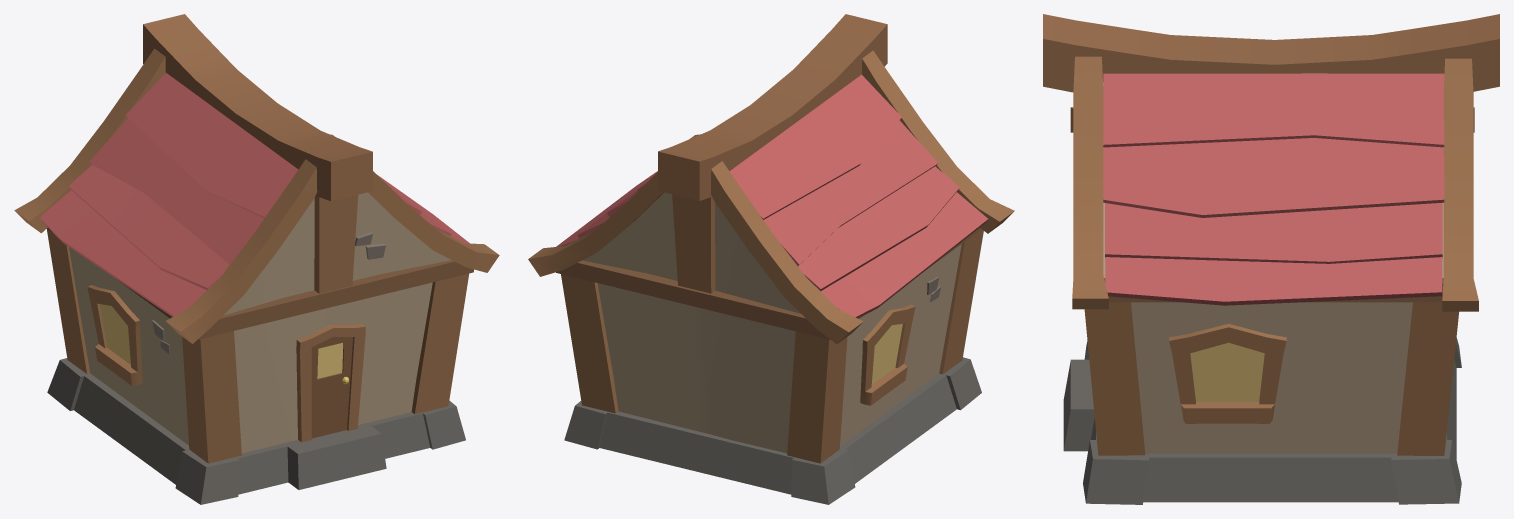
The model's file is Maizon1.fbx.
The picture shows the model from 3 angles, left to right: view 1: azimuth 30°, elevation 25°; view 2: azimuth 150°, elevation 25°; view 3: azimuth 270°, elevation 25°; orthographic projection. The views are drawn at different scales.
Visible parts, largest first — view 1: pasted__Corps_maizon, pasted__pasted__pasted__pCube23, pasted__pCube24, pasted__pasted__Tuile4_d, pasted__pasted__Tuile3_d, pasted__pasted__Tuile2_d, pasted__pasted__Tuile1_d, pasted__pCube23, pasted__pCube30, pasted__pCube27, pasted__pCube22, pasted__pCube29 (+8 smaller); view 2: pasted__Corps_maizon, pasted__pasted__pasted__pCube23, pasted__pCube24, pasted__pasted__Tuile4_d, pasted__pasted__Tuile3_d, pasted__pasted__Tuile2_d, pasted__pasted__Tuile1_d, pasted__pCube21, pasted__pCube29, pasted__pCube27, pasted__pCube19, pasted__pCube30 (+6 smaller); view 3: pasted__Corps_maizon, pasted__pasted__Tuile4_g, pasted__pasted__Tuile3_g, pasted__pasted__pasted__pCube23, pasted__pCube24, pasted__pasted__Tuile2_g, pasted__pasted__Tuile1_g, pasted__pCube28, pasted__pCube25, pasted__pCube19, pasted__pCube22, pasted__pCube40 (+2 smaller).
Part boxes in pixels (x1,y1,x2,y2): pasted__Corps_maizon: (69,192,451,453); pasted__pasted__pasted__pCube23: (47,358,465,504); pasted__pCube24: (143,14,372,201); pasted__pasted__Tuile4_d: (125,73,298,218); pasted__pasted__Tuile3_d: (89,118,264,264); pasted__pasted__Tuile2_d: (68,164,229,289); pasted__pasted__Tuile1_d: (40,190,206,316); pasted__pCube23: (182,331,241,463); pasted__pCube30: (166,159,317,343); pasted__pCube27: (47,228,473,339); pasted__pCube22: (411,273,468,414); pasted__pCube29: (14,48,165,233); pasted__Corps_maizon: (582,192,961,453); pasted__pasted__pasted__pCube23: (564,357,981,504); pasted__pCube24: (658,14,887,200); pasted__pasted__Tuile4_d: (729,74,901,219); pasted__pasted__Tuile3_d: (763,120,938,265); pasted__pasted__Tuile2_d: (798,166,959,291); pasted__pasted__Tuile1_d: (821,192,987,318); pasted__pCube21: (787,331,847,463); pasted__pCube29: (710,161,863,343); pasted__pCube27: (556,228,981,339); pasted__pCube19: (561,274,618,413); pasted__pCube30: (862,50,1014,233); pasted__Corps_maizon: (1103,83,1443,453); pasted__pasted__Tuile4_g: (1103,73,1444,147); pasted__pasted__Tuile3_g: (1103,138,1444,217); pasted__pasted__pasted__pCube23: (1063,338,1461,504); pasted__pCube24: (1043,14,1499,92); pasted__pasted__Tuile2_g: (1105,202,1442,263); pasted__pasted__Tuile1_g: (1105,257,1442,305); pasted__pCube28: (1072,56,1108,309); pasted__pCube25: (1442,58,1478,311); pasted__pCube19: (1397,302,1458,455); pasted__pCube22: (1084,302,1145,455); pasted__pCube40: (1169,323,1286,423).
Size of the model in its own units: 47.9 by 47.21 by 48.82.
